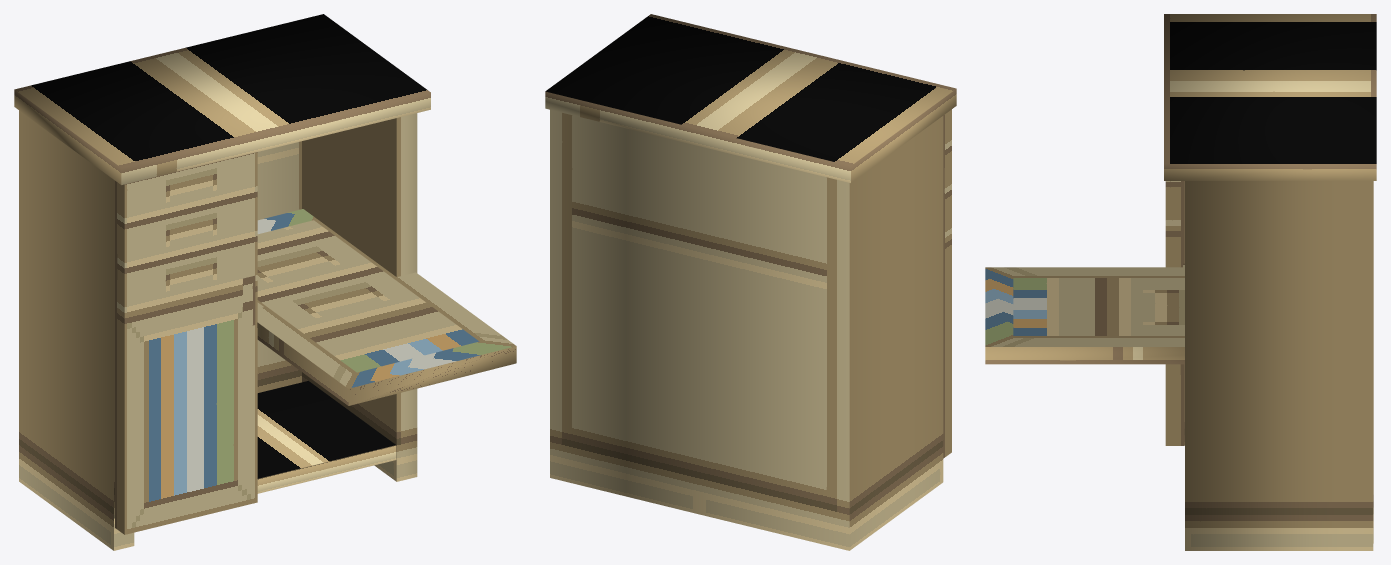
3 views of the same model, side by side, from view 1: azimuth 30°, elevation 25°; view 2: azimuth 150°, elevation 25°; view 3: azimuth 270°, elevation 25° (orthographic).
Parts seen in each view (by area): view 1: 3115IMRL09_04; view 2: 3115IMRL09_04; view 3: 3115IMRL09_04.
Part boxes in pixels (left/top/right/bottom): 3115IMRL09_04: left=14, top=14, right=516, bottom=550; 3115IMRL09_04: left=545, top=14, right=956, bottom=550; 3115IMRL09_04: left=985, top=14, right=1376, bottom=550.
Bounding box in the file's own units: 1.65 × 1.99 × 1.82.
1 material, 1 textured.
